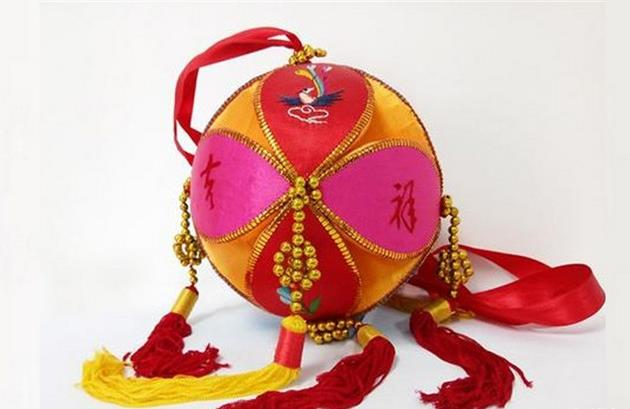xiuqiu: (190, 66, 443, 331)
